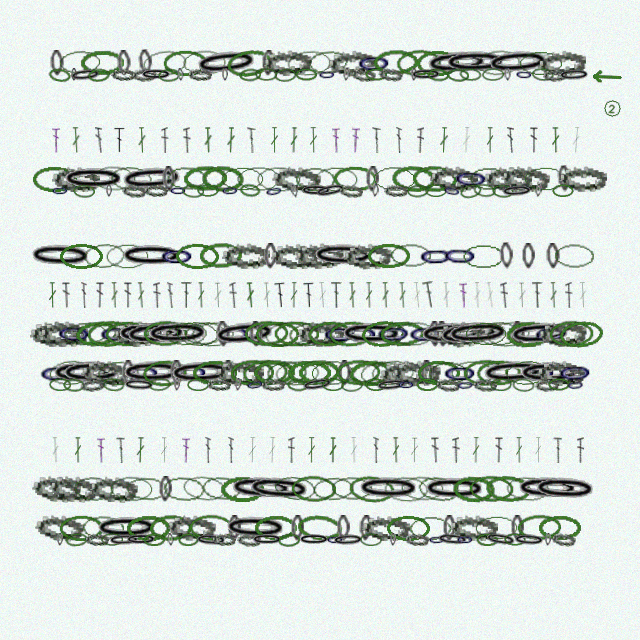chain: (193, 47, 260, 79), (211, 318, 278, 350), (436, 318, 503, 350), (485, 47, 551, 78), (424, 48, 490, 78), (119, 164, 185, 194), (123, 319, 189, 349), (507, 319, 573, 349), (246, 474, 312, 504), (445, 319, 511, 348), (480, 358, 546, 387), (228, 474, 294, 503), (532, 475, 598, 503), (28, 242, 93, 270), (418, 320, 483, 348), (168, 359, 233, 387), (223, 514, 288, 542), (443, 49, 508, 76), (311, 242, 376, 269), (145, 320, 210, 347), (60, 359, 125, 386), (120, 359, 185, 386), (356, 475, 421, 502), (515, 475, 580, 502), (61, 166, 126, 192), (119, 243, 184, 269), (115, 321, 180, 347), (339, 321, 404, 347), (50, 360, 115, 386), (517, 360, 582, 386), (422, 476, 487, 502), (94, 515, 159, 541), (225, 47, 273, 79), (327, 48, 377, 78), (537, 48, 587, 78), (436, 319, 486, 349), (379, 358, 429, 388), (415, 473, 462, 504), (181, 473, 227, 504), (272, 473, 318, 504), (263, 48, 312, 77), (501, 164, 550, 193), (295, 241, 344, 270), (113, 319, 162, 348), (538, 319, 587, 348), (32, 474, 81, 503), (49, 474, 98, 503), (35, 513, 84, 542), (141, 48, 188, 78), (263, 319, 310, 349), (485, 319, 532, 349), (348, 474, 395, 504), (296, 513, 343, 543), (74, 319, 120, 349), (558, 319, 604, 349), (358, 358, 404, 388), (272, 165, 321, 193), (343, 242, 392, 270), (81, 359, 130, 387), (392, 359, 441, 387), (89, 475, 138, 503), (360, 319, 407, 348), (47, 358, 94, 387), (396, 48, 442, 77), (475, 48, 521, 77), (86, 319, 132, 348), (174, 319, 220, 348), (182, 319, 228, 348), (242, 358, 288, 387), (370, 358, 416, 387), (504, 358, 550, 387), (485, 474, 531, 503), (167, 514, 216, 541), (306, 48, 351, 77), (109, 164, 154, 193), (391, 164, 436, 193), (82, 241, 127, 270), (161, 474, 206, 503), (430, 165, 478, 192), (559, 165, 607, 192), (222, 242, 270, 269), (30, 320, 78, 347), (40, 320, 88, 347), (297, 320, 345, 347), (450, 514, 498, 541), (286, 49, 332, 77), (62, 320, 108, 348), (328, 320, 374, 348), (379, 320, 425, 348), (391, 320, 437, 348), (274, 359, 320, 387), (476, 359, 522, 387), (383, 475, 429, 503), (72, 474, 116, 503), (200, 474, 244, 503), (164, 320, 209, 348), (190, 320, 235, 348), (307, 320, 352, 348), (505, 320, 550, 348), (96, 359, 141, 387), (142, 359, 187, 387), (348, 359, 393, 387), (124, 475, 169, 503), (311, 475, 356, 503), (505, 475, 550, 503), (52, 166, 100, 192), (484, 166, 532, 192), (271, 243, 319, 269), (216, 360, 264, 386), (537, 360, 585, 386), (362, 515, 410, 541), (475, 320, 521, 347), (287, 320, 331, 348), (452, 475, 496, 503), (182, 49, 227, 76), (373, 49, 418, 76), (91, 165, 136, 192), (412, 165, 457, 192), (143, 320, 188, 347), (244, 320, 289, 347), (549, 320, 594, 347), (310, 359, 355, 386), (336, 359, 381, 386), (463, 359, 508, 386), (291, 475, 336, 502), (469, 475, 514, 502), (189, 514, 234, 541), (58, 49, 102, 76), (165, 165, 209, 192), (183, 165, 227, 192), (201, 165, 245, 192), (372, 165, 416, 192), (199, 242, 243, 269), (389, 242, 433, 269), (230, 359, 274, 386), (265, 359, 309, 386), (109, 475, 153, 502), (330, 475, 374, 502), (400, 475, 444, 502), (81, 514, 125, 541), (149, 514, 193, 541), (517, 514, 561, 541), (163, 50, 208, 76), (518, 50, 563, 76), (32, 166, 77, 192), (236, 166, 281, 192), (256, 166, 301, 192), (314, 166, 359, 192), (523, 166, 568, 192), (59, 243, 104, 269), (175, 243, 220, 269), (105, 321, 150, 347), (274, 321, 319, 347), (192, 360, 237, 386), (450, 360, 495, 386), (59, 515, 104, 541), (553, 242, 596, 269), (253, 359, 296, 386), (298, 359, 341, 386), (80, 50, 124, 76), (416, 50, 460, 76), (220, 166, 264, 192), (333, 166, 377, 192), (105, 243, 149, 269), (367, 243, 411, 269), (461, 243, 505, 269), (255, 321, 299, 347), (464, 321, 508, 347), (287, 360, 331, 386), (417, 360, 461, 386), (220, 476, 264, 502), (126, 515, 170, 541), (254, 515, 298, 541), (386, 515, 430, 541), (408, 515, 452, 541), (474, 515, 518, 541), (538, 515, 582, 541), (294, 166, 337, 192), (468, 166, 511, 192), (427, 360, 470, 386), (532, 319, 570, 348), (215, 320, 252, 348), (38, 359, 75, 387), (98, 320, 135, 347), (375, 320, 412, 347), (407, 320, 444, 347), (453, 165, 489, 192), (442, 242, 478, 269), (56, 320, 92, 347), (173, 359, 209, 386), (557, 359, 593, 386), (356, 50, 392, 76), (159, 243, 195, 269), (418, 243, 454, 269), (322, 321, 358, 347), (343, 321, 379, 347), (125, 360, 161, 386), (442, 360, 478, 386), (521, 360, 557, 386), (314, 181, 347, 200), (301, 376, 334, 393), (484, 531, 517, 548), (69, 67, 102, 83), (375, 377, 408, 393), (436, 532, 469, 547), (558, 68, 590, 82), (501, 184, 533, 198), (123, 378, 155, 392), (108, 533, 140, 547), (195, 533, 227, 547), (332, 533, 364, 547), (513, 533, 545, 547), (459, 182, 483, 200), (140, 68, 172, 81), (410, 68, 442, 81), (300, 184, 332, 197), (125, 533, 157, 546), (251, 533, 283, 546), (298, 533, 330, 546), (138, 49, 153, 76), (557, 165, 572, 192), (499, 242, 514, 269), (80, 377, 105, 393), (435, 321, 450, 347), (378, 67, 403, 82), (551, 532, 576, 547), (48, 67, 71, 83), (50, 50, 64, 76), (117, 50, 131, 76), (162, 166, 176, 192), (546, 243, 560, 269), (216, 321, 230, 347), (249, 321, 263, 347), (428, 321, 442, 347), (511, 321, 525, 347), (170, 360, 184, 386), (420, 360, 434, 386), (359, 515, 373, 541), (351, 68, 376, 82), (459, 67, 482, 82), (531, 67, 554, 82), (473, 183, 496, 198), (102, 377, 125, 392), (148, 377, 171, 392), (65, 532, 88, 547), (262, 50, 275, 76), (366, 166, 379, 192), (264, 243, 277, 269), (522, 243, 535, 269), (122, 360, 135, 386), (222, 360, 235, 386), (338, 360, 351, 386), (159, 476, 172, 502), (228, 515, 241, 541), (291, 515, 304, 541), (337, 515, 350, 541), (443, 515, 456, 541), (511, 515, 524, 541), (132, 68, 156, 82), (543, 68, 567, 82), (122, 184, 146, 198), (339, 184, 363, 198), (436, 378, 460, 392), (473, 378, 497, 392), (535, 378, 559, 392), (237, 533, 261, 547), (239, 183, 261, 198), (87, 68, 110, 82), (274, 68, 297, 82), (512, 378, 535, 392), (264, 183, 284, 199), (442, 183, 462, 199), (111, 68, 135, 81), (188, 68, 212, 81), (144, 184, 168, 197), (384, 184, 408, 197), (207, 378, 231, 391), (261, 378, 285, 391), (85, 533, 109, 546), (212, 533, 236, 546), (405, 533, 429, 546), (158, 68, 180, 82), (239, 68, 261, 82), (427, 68, 449, 82), (447, 68, 469, 82), (73, 184, 95, 198), (182, 184, 204, 198), (407, 184, 429, 198), (492, 184, 514, 198), (63, 378, 85, 392), (287, 378, 309, 392), (341, 378, 363, 392), (278, 533, 300, 547), (245, 377, 265, 392), (255, 68, 277, 81), (295, 68, 317, 81), (365, 68, 387, 81), (482, 68, 504, 81), (197, 184, 219, 197), (425, 184, 447, 197), (552, 184, 574, 197), (49, 378, 71, 391), (187, 378, 209, 391), (322, 378, 344, 391), (365, 378, 387, 391), (416, 378, 438, 391), (490, 378, 512, 391), (548, 378, 570, 391), (101, 533, 123, 546), (143, 533, 165, 546), (360, 533, 382, 546), (476, 533, 498, 546), (504, 533, 526, 546), (178, 533, 199, 546), (456, 378, 475, 392), (566, 378, 585, 392), (318, 68, 336, 81), (515, 68, 533, 81), (51, 184, 69, 197), (169, 184, 187, 197), (221, 184, 239, 197), (397, 378, 415, 391), (326, 533, 344, 546), (428, 533, 446, 546), (456, 533, 474, 546), (290, 184, 299, 198), (177, 68, 184, 81), (343, 68, 350, 81), (504, 68, 511, 81), (372, 184, 379, 197), (535, 184, 542, 197), (167, 533, 174, 546), (71, 68, 77, 81), (222, 68, 228, 81), (411, 68, 417, 81), (106, 184, 112, 197), (174, 378, 180, 391), (235, 378, 241, 391), (57, 533, 63, 546), (390, 533, 396, 546), (545, 533, 551, 546)
double: (422, 281, 437, 308), (274, 282, 287, 308), (303, 282, 315, 308), (114, 127, 125, 153), (181, 282, 192, 308), (245, 282, 256, 308), (317, 282, 328, 308), (331, 282, 342, 308), (485, 282, 496, 308), (532, 282, 543, 308), (71, 127, 81, 153), (137, 127, 147, 153), (203, 127, 213, 153), (226, 127, 236, 153), (439, 127, 449, 153), (571, 127, 581, 153), (136, 282, 146, 308), (213, 282, 223, 308), (262, 282, 272, 308), (412, 282, 422, 308), (517, 282, 527, 308), (578, 282, 588, 308), (247, 127, 256, 153), (270, 127, 279, 153), (309, 127, 318, 153), (351, 127, 360, 153), (372, 127, 381, 153), (462, 127, 471, 153), (551, 127, 560, 153), (48, 282, 57, 308), (62, 282, 71, 308), (110, 282, 119, 308), (229, 282, 238, 308), (348, 282, 357, 308), (381, 282, 390, 308), (398, 282, 407, 308), (442, 282, 451, 308), (459, 282, 468, 308), (473, 282, 482, 308), (500, 282, 509, 308), (549, 282, 558, 308), (51, 437, 60, 463), (116, 437, 125, 463), (136, 437, 145, 463), (248, 437, 257, 463), (307, 437, 316, 463), (410, 437, 419, 463), (431, 437, 440, 463), (553, 437, 562, 463), (52, 127, 60, 153), (95, 127, 103, 153), (161, 127, 169, 153), (183, 127, 191, 153), (290, 127, 298, 153), (332, 127, 340, 153), (486, 127, 494, 153), (530, 127, 538, 153), (96, 282, 104, 308), (124, 282, 132, 308), (153, 282, 161, 308), (197, 282, 205, 308), (290, 282, 298, 308), (365, 282, 373, 308), (565, 282, 573, 308), (74, 437, 82, 463), (97, 437, 105, 463), (160, 437, 168, 463), (182, 437, 190, 463), (268, 437, 276, 463), (329, 437, 337, 463), (350, 437, 358, 463), (392, 437, 400, 463), (452, 437, 460, 463), (472, 437, 480, 463), (495, 437, 503, 463), (515, 437, 523, 463), (534, 437, 542, 463), (417, 127, 424, 153), (507, 127, 514, 153), (167, 282, 174, 308), (288, 437, 295, 463), (577, 437, 584, 463), (396, 127, 402, 153), (81, 282, 87, 308), (205, 437, 211, 463), (228, 437, 234, 463), (373, 437, 379, 463)
noise: (590, 70, 622, 83), (602, 98, 622, 118)
